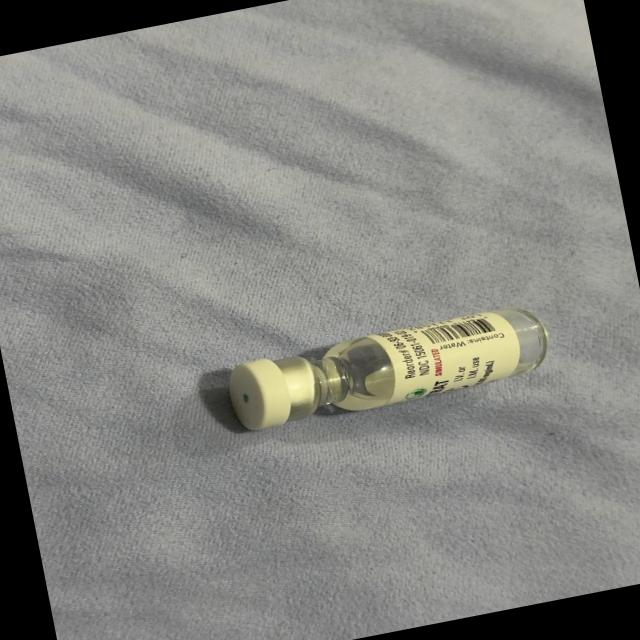fentanl_citrat: (228, 303, 550, 434)
